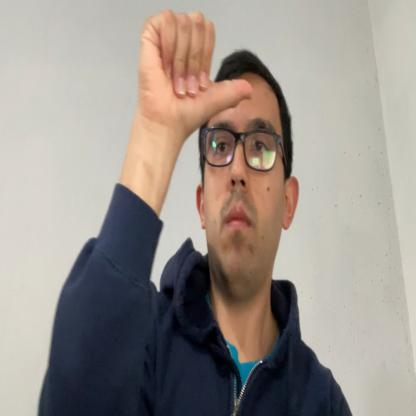A: (140, 8, 254, 136)
